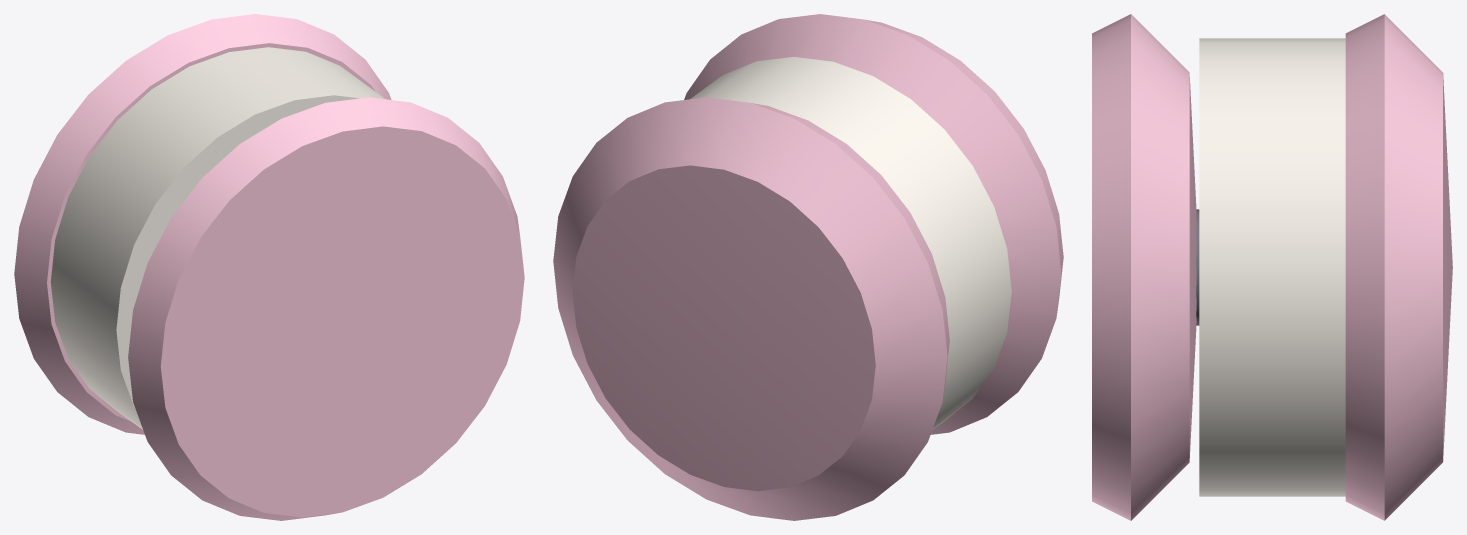
The model's file is ITEM_MacaronWheel.fbx.
The picture shows the model from 3 angles, left to right: view 1: azimuth 30°, elevation 25°; view 2: azimuth 150°, elevation 25°; view 3: azimuth 270°, elevation 25°; orthographic projection. The views are drawn at different scales.
Visible parts, largest first — view 1: ITEM_MacaronWheel; view 2: ITEM_MacaronWheel; view 3: ITEM_MacaronWheel.
Part boxes in pixels (<box>): ITEM_MacaronWheel: <box>14,14,524,520</box>; ITEM_MacaronWheel: <box>553,14,1063,520</box>; ITEM_MacaronWheel: <box>1092,14,1452,520</box>.
Bounding box in the file's own units: 52 × 52 × 37.
